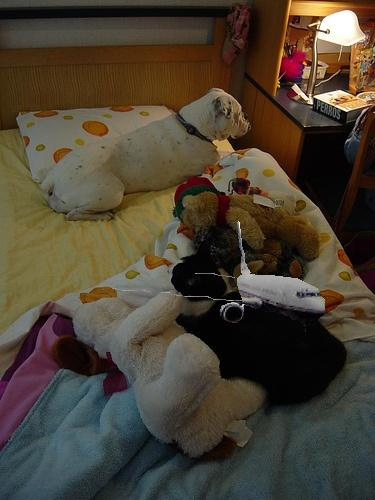tampered: (113, 222, 325, 335)
